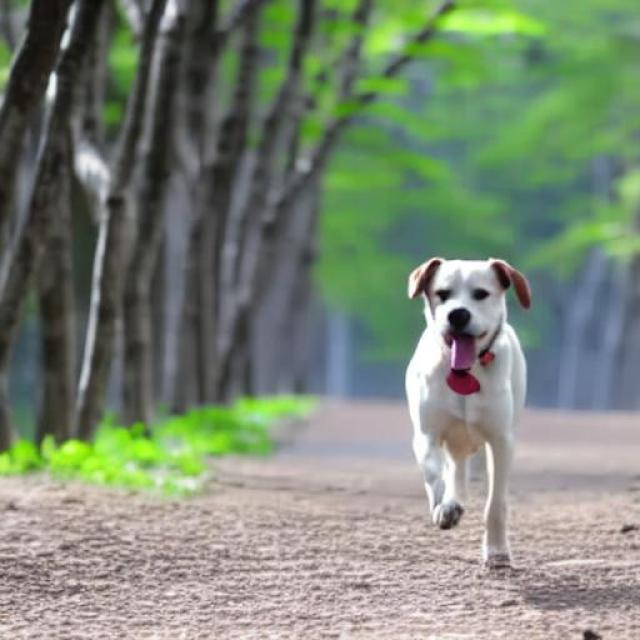Dog: (403, 258, 534, 571)
